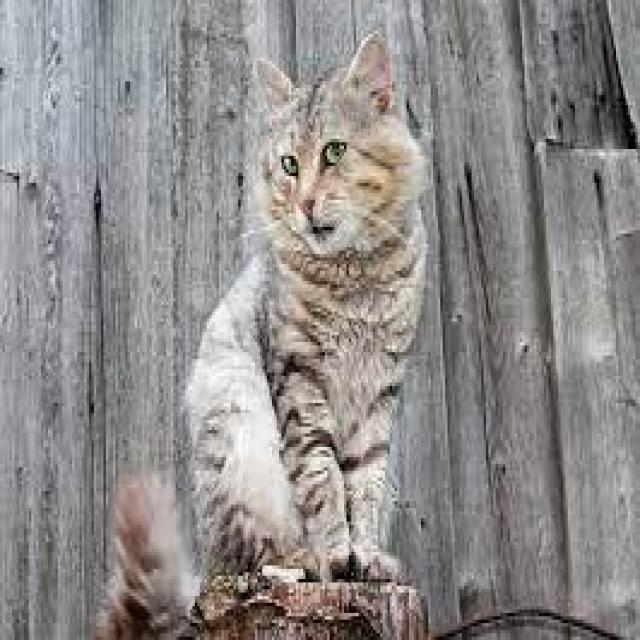Cat: (184, 26, 434, 577)
